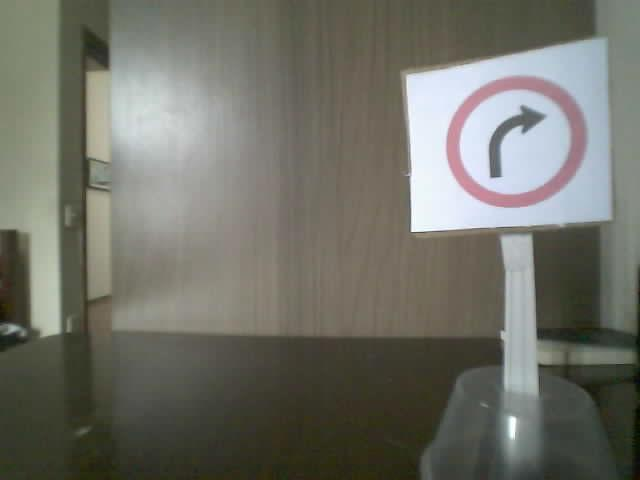R-25b_direita: (443, 74, 585, 207)
